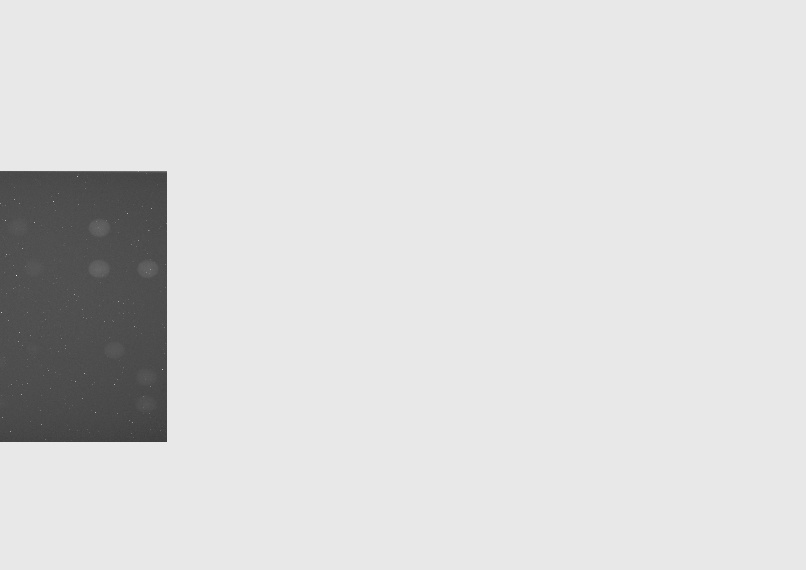cluster: (88, 218, 158, 279), (103, 341, 158, 413), (10, 218, 45, 277)
